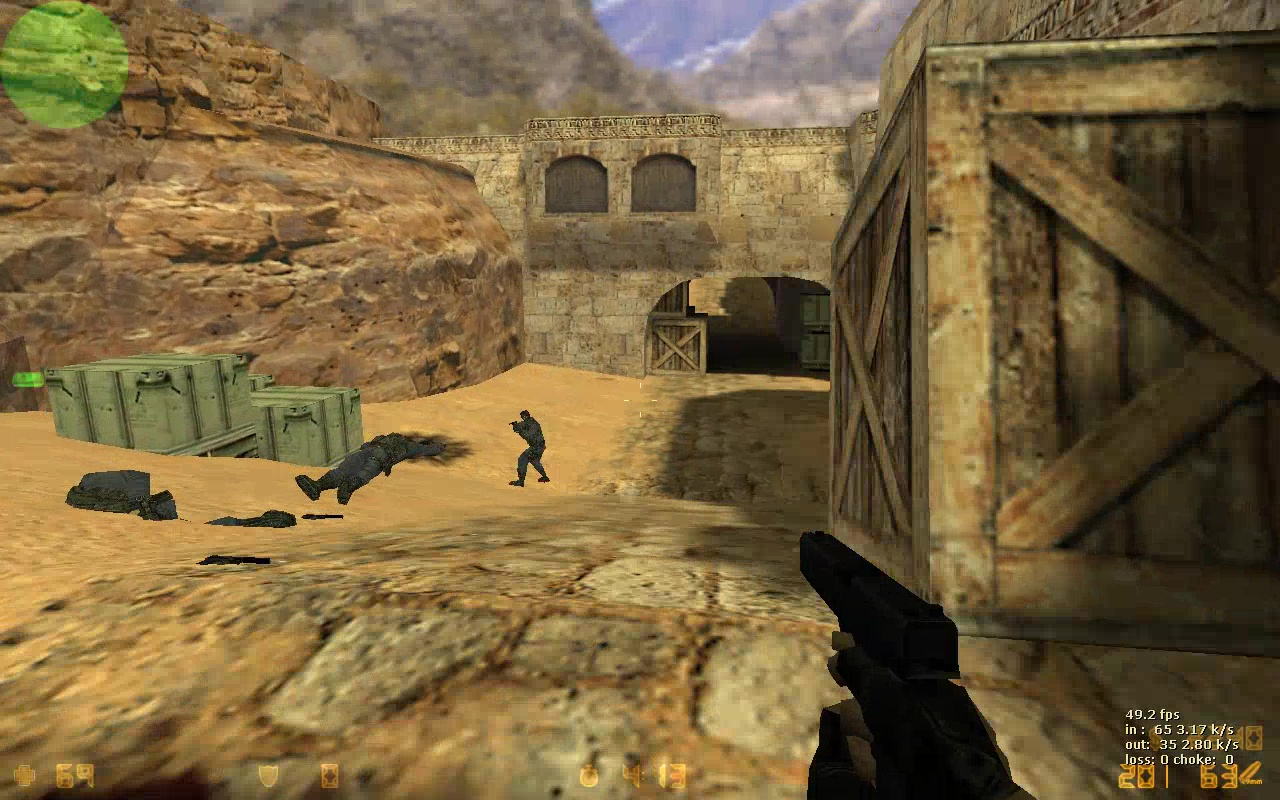ct: (509, 409, 551, 483)
dead: (297, 428, 445, 512)
